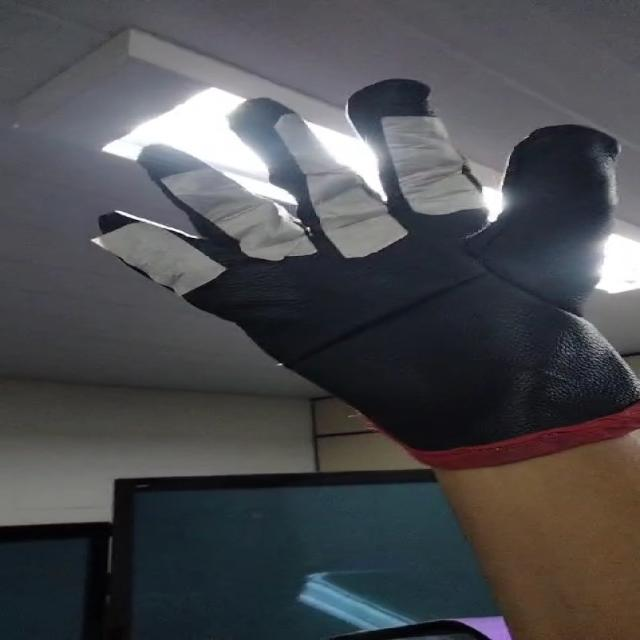Gloves: (93, 77, 640, 459)
